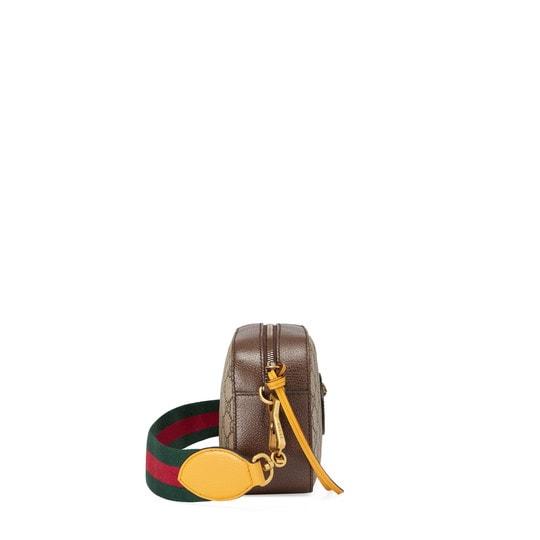Gucci: (150, 324, 342, 502)
